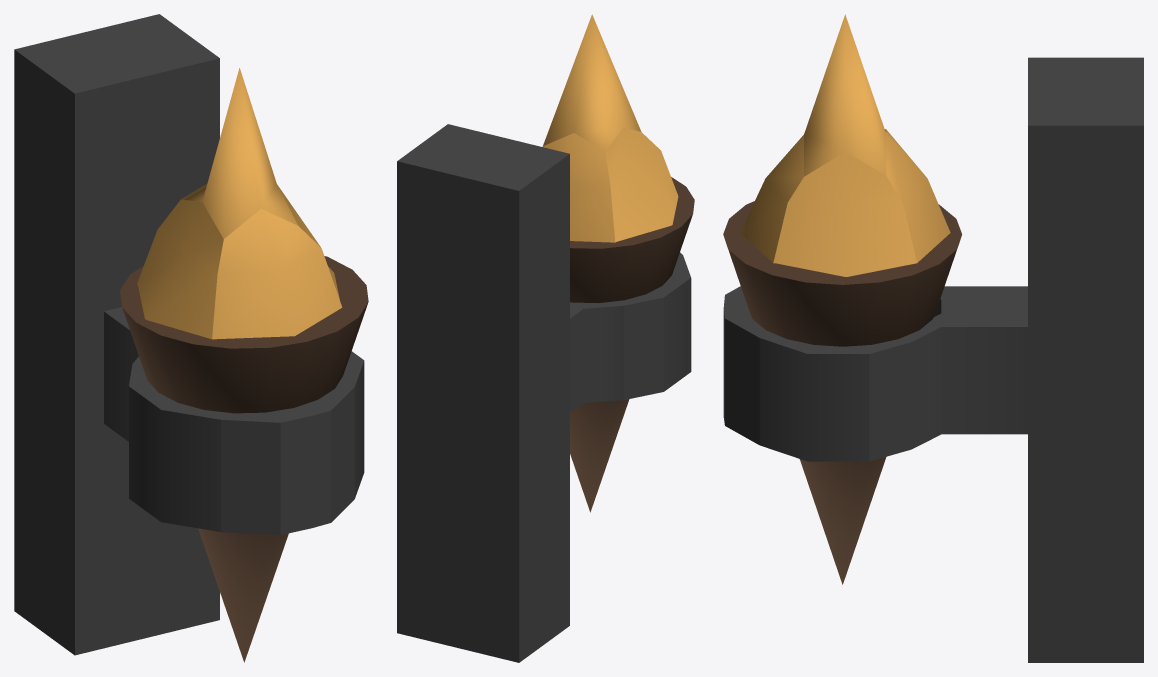
The model's file is Torch.fbx.
The picture shows the model from 3 angles, left to right: view 1: azimuth 30°, elevation 25°; view 2: azimuth 150°, elevation 25°; view 3: azimuth 270°, elevation 25°; orthographic projection. The views are drawn at different scales.
Parts seen in each view (by area): view 1: Torch; view 2: Torch; view 3: Torch.
Part boxes in pixels (bbox=[...]): Torch: bbox=[14, 14, 368, 662]; Torch: bbox=[397, 14, 694, 662]; Torch: bbox=[723, 14, 1143, 662].
Bounding box in the file's own units: 2.53 × 7.16 × 4.45.
